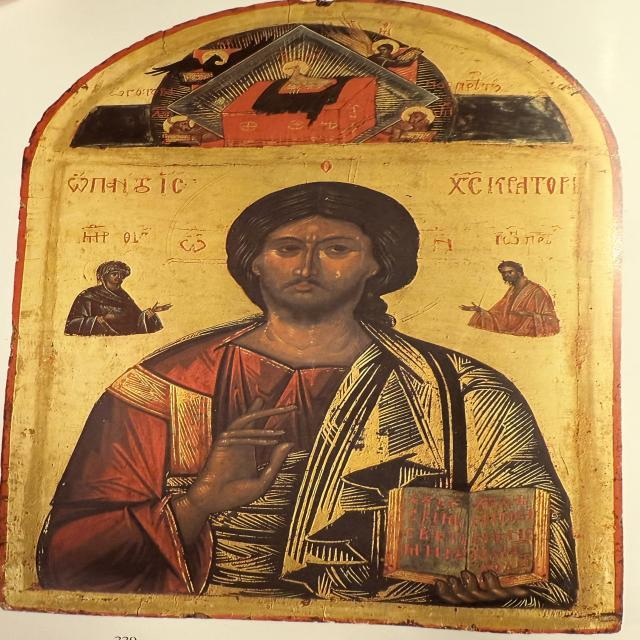book: (385, 473, 558, 598)
christ: (48, 161, 587, 601)
christ_hand: (136, 390, 323, 542)
